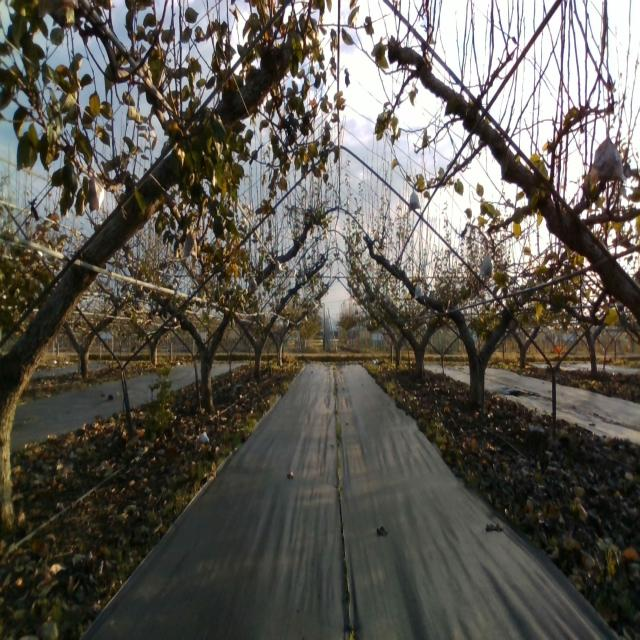pearbags: (590, 130, 624, 185), (88, 170, 106, 211), (408, 188, 420, 212), (480, 254, 492, 277), (414, 281, 424, 300)
